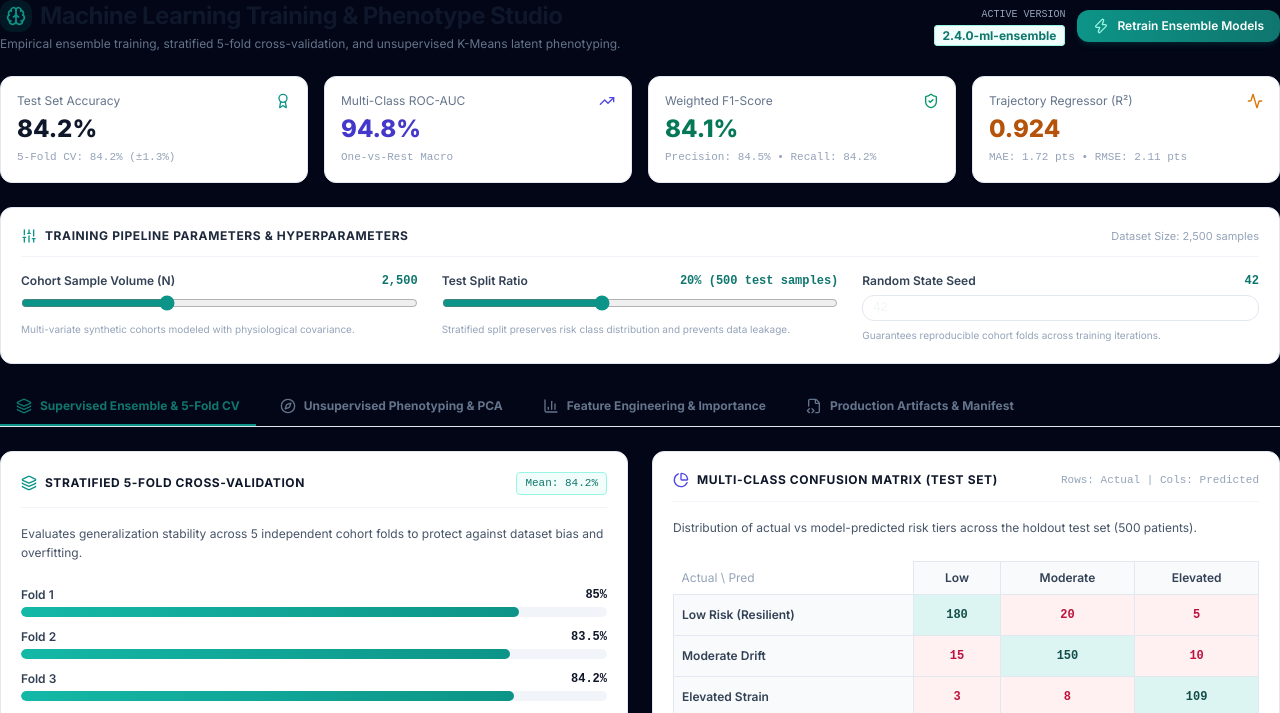
Scenario: MLStudioPage Component › allows switching between ML concept tabs
// Unsupervised tab
What coordinates should you click on to do the following:
click the button "Unsupervised Phenotyping & PCA"
I would click on:
 (391, 407)
Its box is left=264, top=388, right=519, bottom=426.
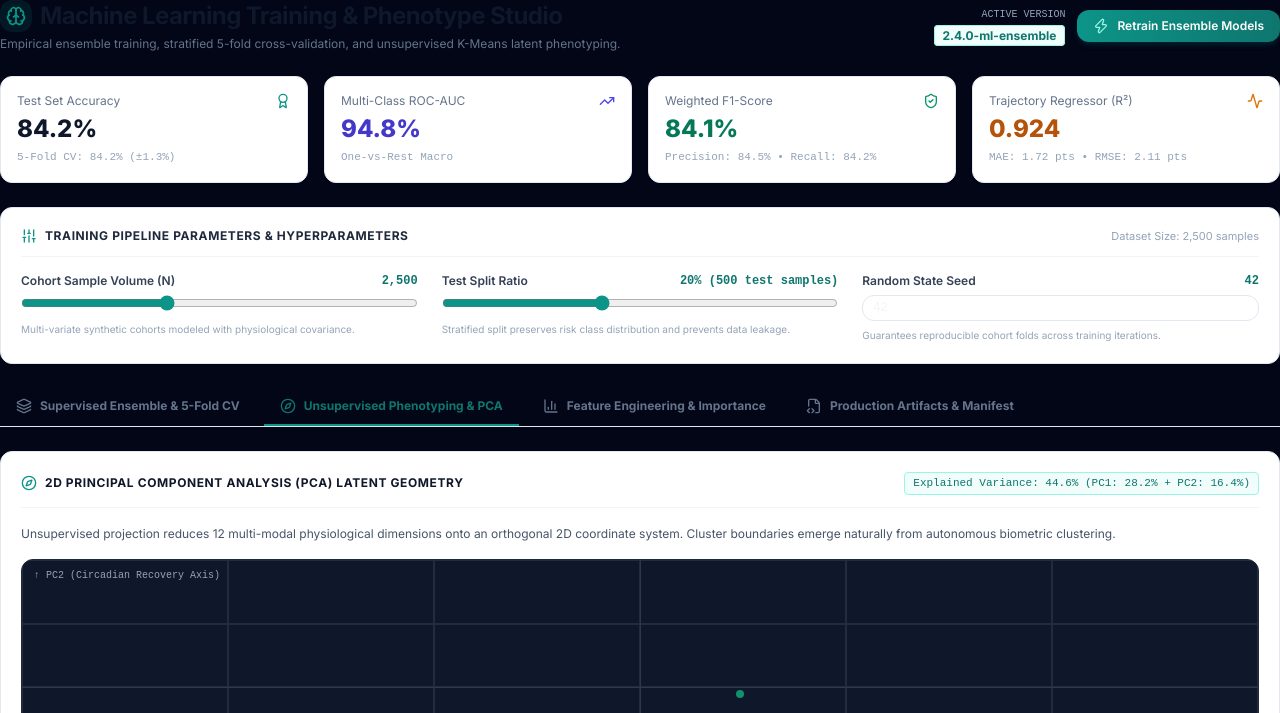
Check: the heading "2D Principal Component Analysis (PCA) Latent Geometry" is shown, box left=45, top=475, right=464, bottom=491
// Feature Engineering tab
What coordinates should you click on to do the following:
click the button "Feature Engineering & Importance"
I would click on:
 (654, 407)
Its box is left=527, top=388, right=782, bottom=426.
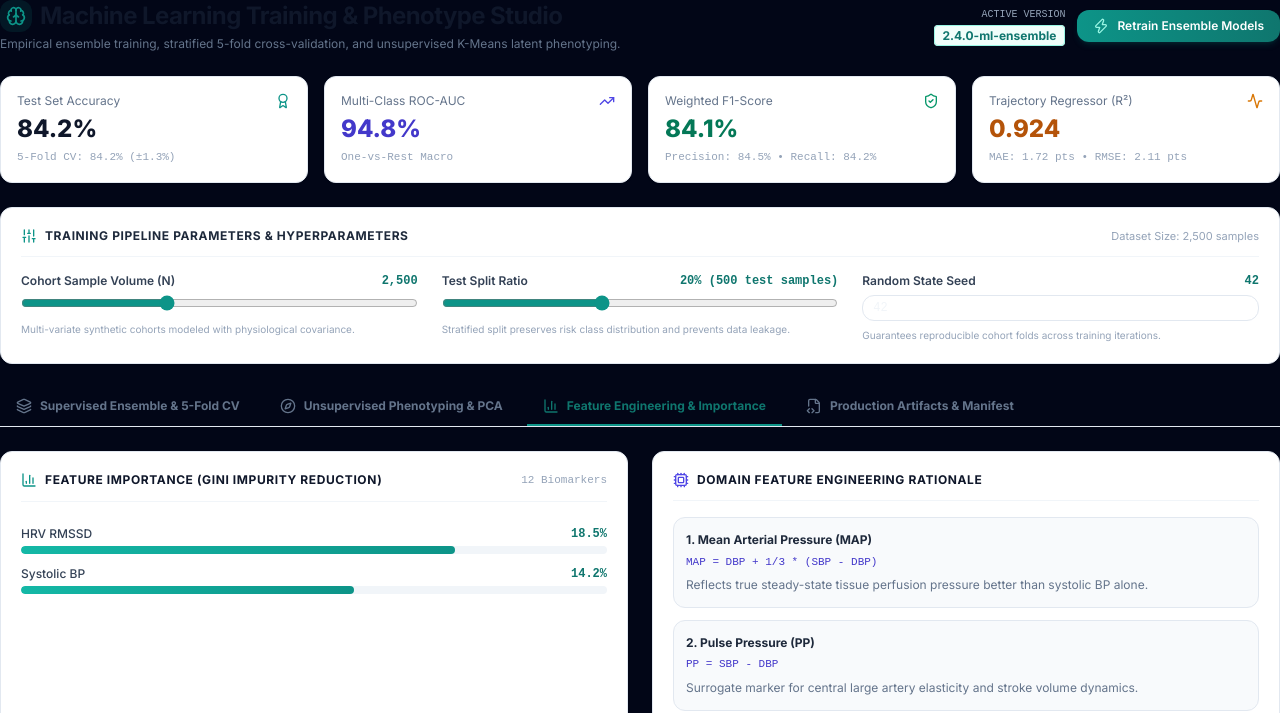
Check: the heading "Domain Feature Engineering Rationale" is shown, box left=697, top=472, right=982, bottom=488
Check: the text "1. Mean Arterial Pressure (MAP)" is shown, box left=686, top=532, right=872, bottom=547
